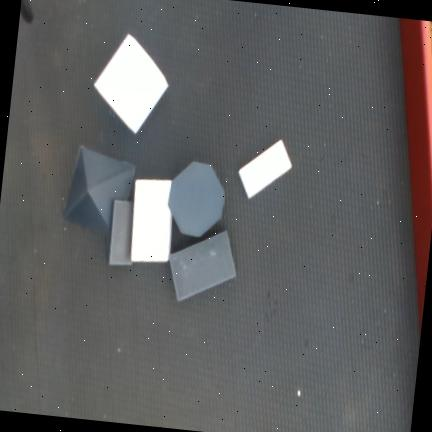Paralelepipedo: (169, 230, 236, 302), (130, 178, 172, 263), (238, 139, 292, 200), (109, 199, 134, 266)
Piramide: (63, 145, 137, 238)
Prisma_hexagonal: (93, 33, 169, 135), (168, 161, 225, 238)
